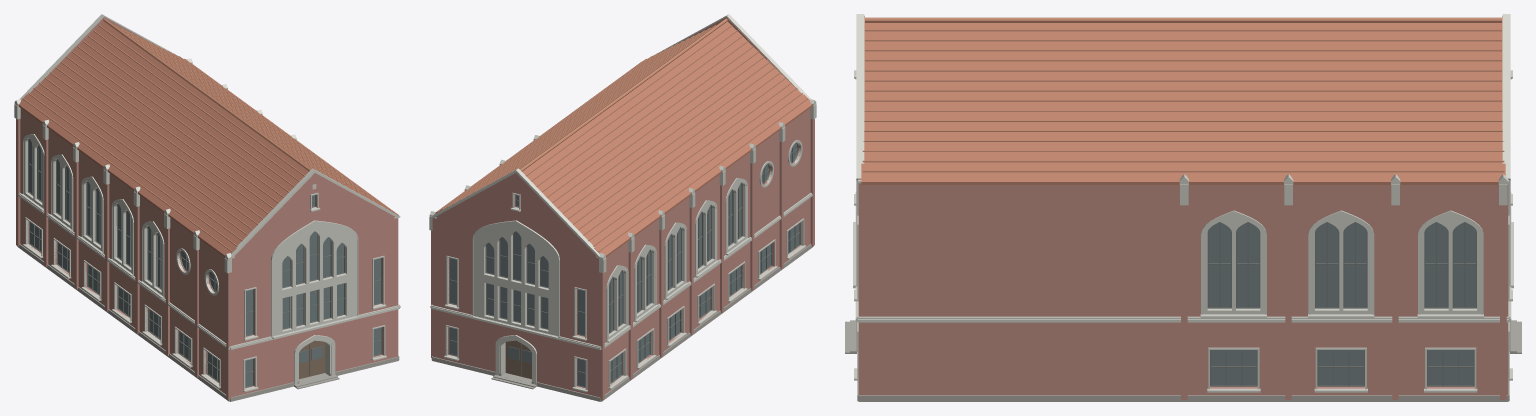
File: yangpu-hujiang-university-auditorium-lod.glb
The picture shows the model from 3 angles, left to right: view 1: azimuth 30°, elevation 25°; view 2: azimuth 150°, elevation 25°; view 3: azimuth 270°, elevation 25°; orthographic projection. The views are drawn at different scales.
Visible parts, largest first — view 1: 沪江大学大学礼堂（1937年主礼堂）; view 2: 沪江大学大学礼堂（1937年主礼堂）; view 3: 沪江大学大学礼堂（1937年主礼堂）.
Boxes of the visible parts, left/top/right/bottom form: 沪江大学大学礼堂（1937年主礼堂）: left=14, top=14, right=400, bottom=401; 沪江大学大学礼堂（1937年主礼堂）: left=429, top=14, right=816, bottom=401; 沪江大学大学礼堂（1937年主礼堂）: left=845, top=14, right=1521, bottom=401.
Bounding box in the file's own units: 17.75 × 20.5 × 38.78.
